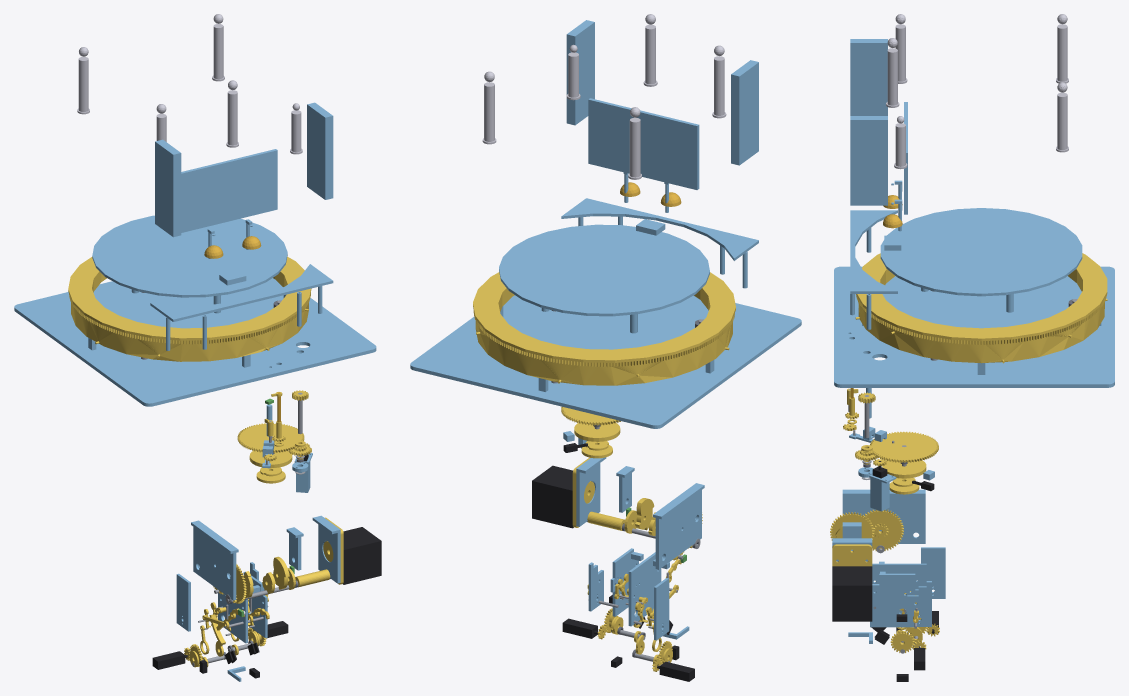
The model's file is e2_ages_exploded.dae.
3 renders of one model, left to right at view 1: azimuth 30°, elevation 25°; view 2: azimuth 150°, elevation 25°; view 3: azimuth 270°, elevation 25°, orthographic. The views are drawn at different scales.
Visible parts, largest first — view 1: deck, floor_island, ring, back_wall, state_plate_left, pier_left, pier_right, floor_front, state_motor, program_gear_72, state_motor_plate, hour_motor_plate (+5 smaller); view 2: deck, floor_island, ring, back_wall, state_plate_left, pier_left, floor_front, state_motor, pier_right, strike_plate_middle, state_motor_plate, strike_plate_right (+10 smaller); view 3: deck, floor_island, ring, pier_right, pier_left, state_plate_left, state_motor, strike_plate_right, floor_front, program_gear_72, lay_compound, hour_motor_plate (+11 smaller).
Boxes of the visible parts, x1=… form: deck: x1=14, y1=278, x2=376, y2=406; floor_island: x1=92, y1=215, x2=287, y2=297; ring: x1=68, y1=256, x2=311, y2=361; back_wall: x1=181, y1=149, x2=277, y2=232; state_plate_left: x1=191, y1=520, x2=238, y2=600; pier_left: x1=155, y1=139, x2=181, y2=237; pier_right: x1=307, y1=102, x2=333, y2=199; floor_front: x1=150, y1=264, x2=333, y2=321; state_motor: x1=343, y1=527, x2=381, y2=584; program_gear_72: x1=237, y1=423, x2=304, y2=452; state_motor_plate: x1=312, y1=515, x2=340, y2=583; hour_motor_plate: x1=176, y1=573, x2=190, y2=631; deck: x1=410, y1=295, x2=801, y2=428; floor_island: x1=499, y1=224, x2=709, y2=316; ring: x1=473, y1=272, x2=735, y2=385; back_wall: x1=588, y1=98, x2=699, y2=189; state_plate_left: x1=653, y1=483, x2=704, y2=569; pier_left: x1=731, y1=60, x2=758, y2=165; floor_front: x1=561, y1=198, x2=758, y2=260; state_motor: x1=532, y1=465, x2=573, y2=528; pier_right: x1=566, y1=20, x2=594, y2=125; strike_plate_middle: x1=628, y1=552, x2=661, y2=626; state_motor_plate: x1=576, y1=457, x2=606, y2=526; strike_plate_right: x1=610, y1=548, x2=638, y2=616; deck: x1=834, y1=266, x2=1114, y2=387; floor_island: x1=880, y1=208, x2=1082, y2=296; ring: x1=855, y1=253, x2=1107, y2=363; pier_right: x1=850, y1=116, x2=887, y2=205; pier_left: x1=850, y1=39, x2=887, y2=115; state_plate_left: x1=842, y1=489, x2=925, y2=543; state_motor: x1=832, y1=566, x2=872, y2=621; strike_plate_right: x1=870, y1=573, x2=918, y2=627; floor_front: x1=850, y1=210, x2=897, y2=293; program_gear_72: x1=870, y1=431, x2=938, y2=462; lay_compound: x1=864, y1=509, x2=903, y2=551; hour_motor_plate: x1=921, y1=547, x2=945, y2=598.
Size of the model in its own units: 297 by 301 by 734.
